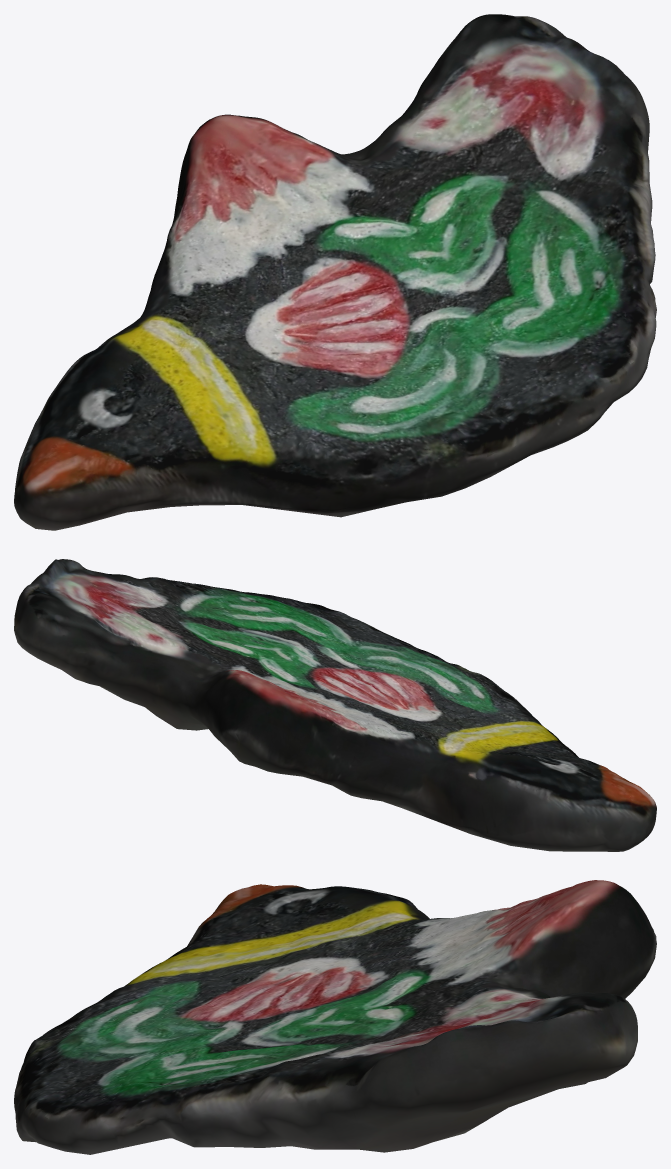
3 views of the same model, one above another, from view 1: azimuth 30°, elevation 25°; view 2: azimuth 150°, elevation 25°; view 3: azimuth 270°, elevation 25° (orthographic). The views are drawn at different scales.
Size of the model in its own units: 0.5992 by 0.2229 by 0.4136.
Materials: 1 (1 with a texture image).
